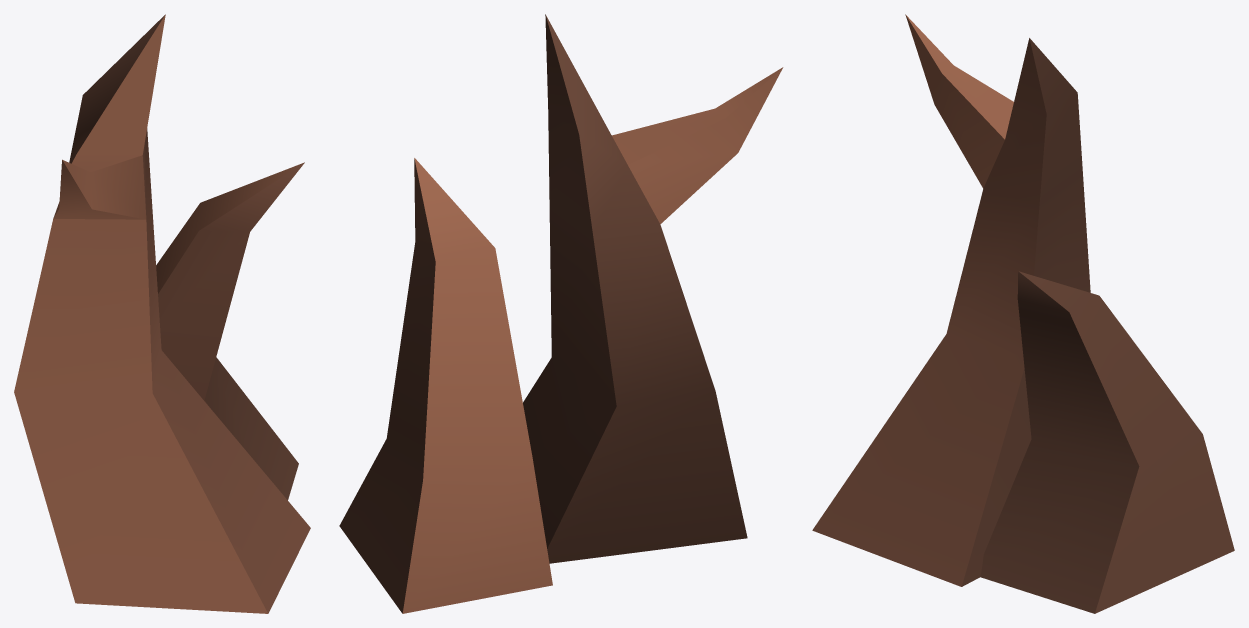
File: Projectile_3_Boss_6_Tree.fbx
The picture shows the model from 3 angles, left to right: view 1: azimuth 30°, elevation 25°; view 2: azimuth 150°, elevation 25°; view 3: azimuth 270°, elevation 25°; orthographic projection. The views are drawn at different scales.
Visible parts, largest first — view 1: Projectile_3_Boss_6_Tree; view 2: Projectile_3_Boss_6_Tree; view 3: Projectile_3_Boss_6_Tree.
Boxes of the visible parts, x1=… form: Projectile_3_Boss_6_Tree: x1=14, y1=14, x2=310, y2=613; Projectile_3_Boss_6_Tree: x1=339, y1=14, x2=783, y2=613; Projectile_3_Boss_6_Tree: x1=812, y1=14, x2=1234, y2=613.
Size of the model in its own units: 0.019 by 0.0279 by 0.0215.
